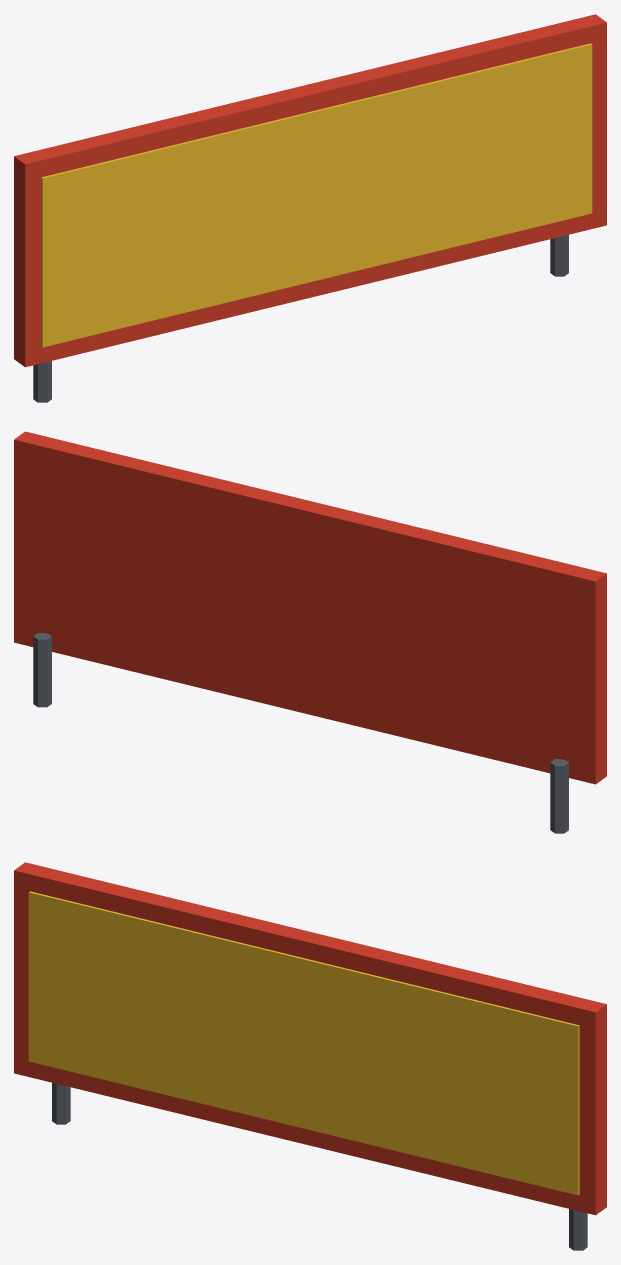
File: famous_board.glb
3 views of the same model, one above another, from view 1: azimuth 30°, elevation 25°; view 2: azimuth 150°, elevation 25°; view 3: azimuth 330°, elevation 25° (orthographic).
Visible parts, largest first — view 1: famous_board; view 2: famous_board; view 3: famous_board.
Part boxes in pixels (x1,y1,x2,y2): famous_board: [14, 14, 606, 402]; famous_board: [14, 431, 606, 833]; famous_board: [14, 862, 606, 1250].
Bounding box in the file's own units: 3.6 × 1.5 × 0.225.
1 material, 1 textured.
